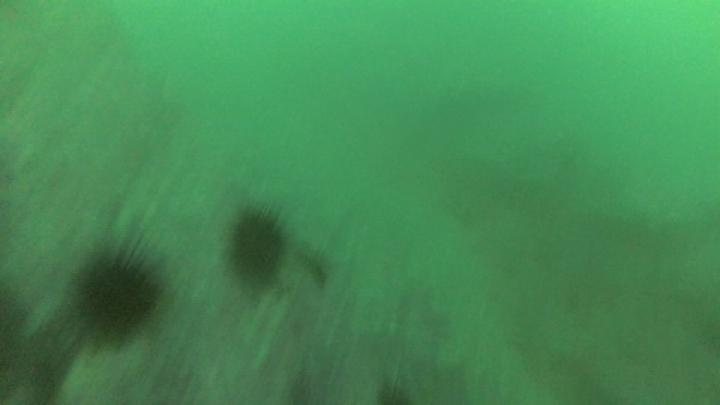echinus: (75, 262, 157, 331), (233, 213, 286, 284)
